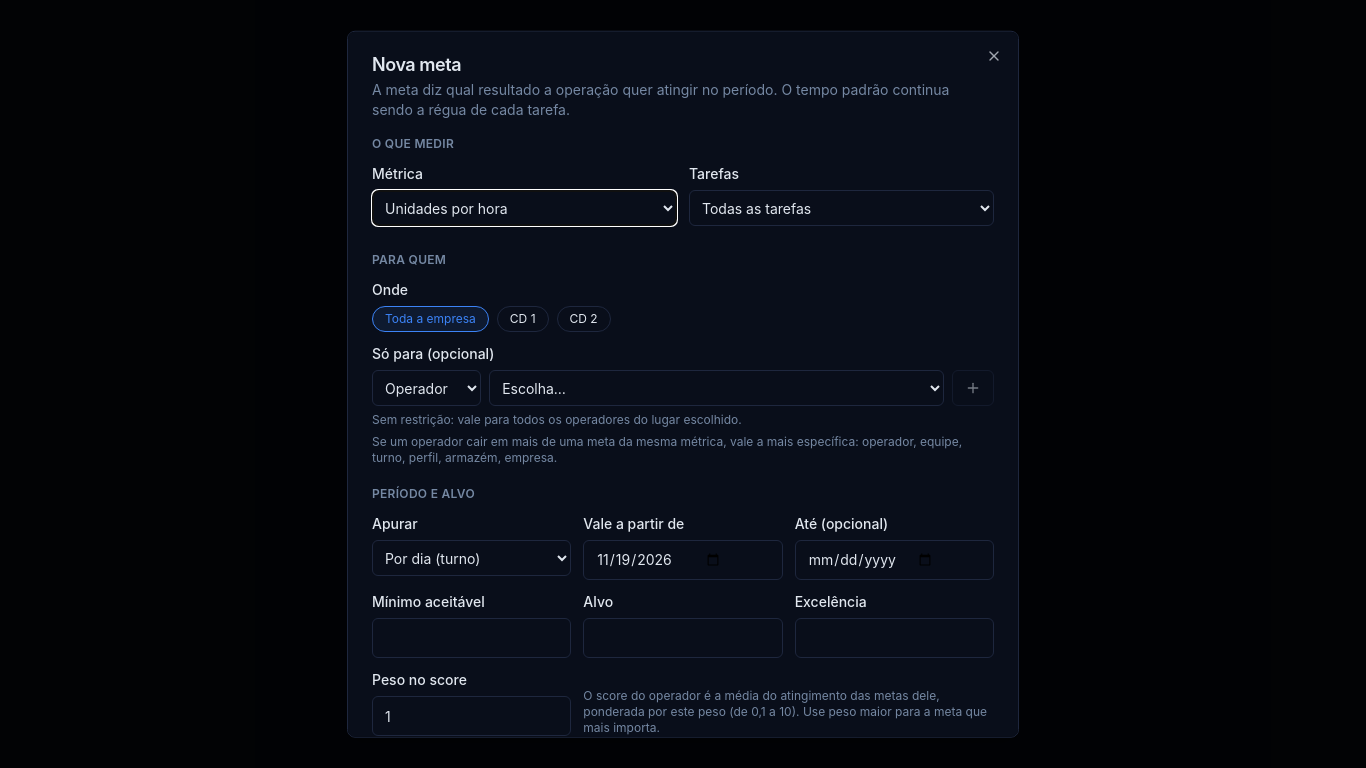
it: Fase 9 · diálogo de meta › lote: 2 tipos × 2 armazéns = 4 metas; supervisor envia para aprovação
The width and height of the screenshot is (1366, 768).
Earlier steps of the test are not shown.
Later steps or results of the test are not shown.
Select "Um tipo de tarefa (ou vários, uma meta para cada)" in the dropdown labelled "Tarefas" at (842, 208), box [689,190,994,226]
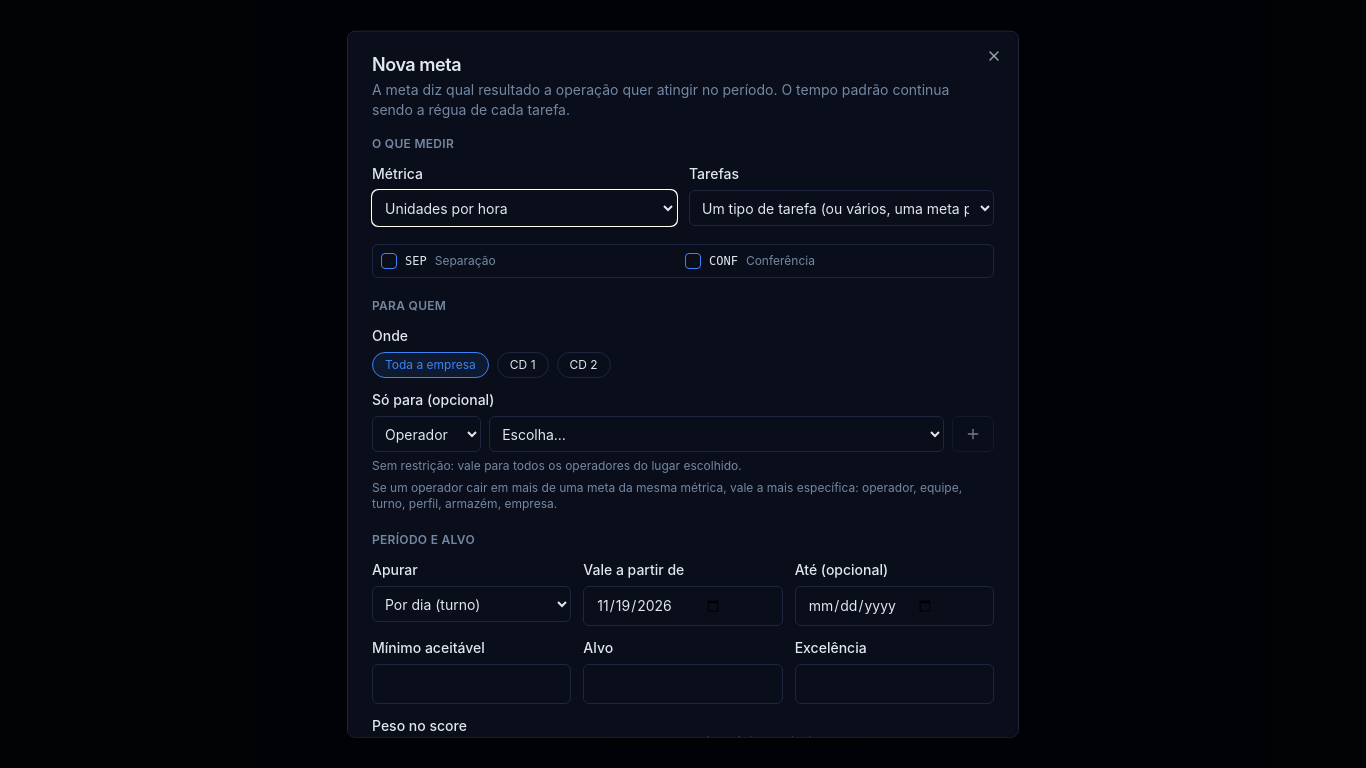
Click the text "SEP".
click(416, 261)  # box [405,253,427,269]
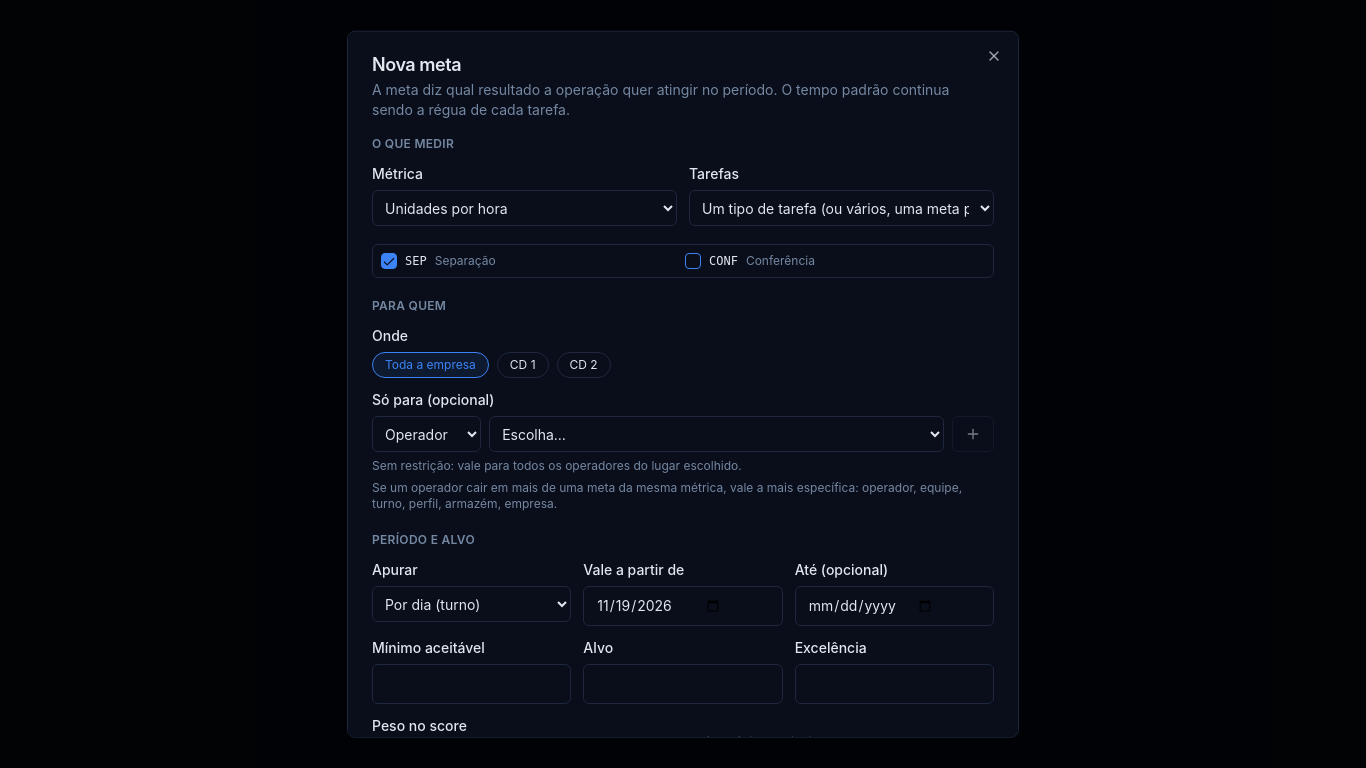
Click the text "CONF".
click(723, 261)  # box [709,253,738,269]
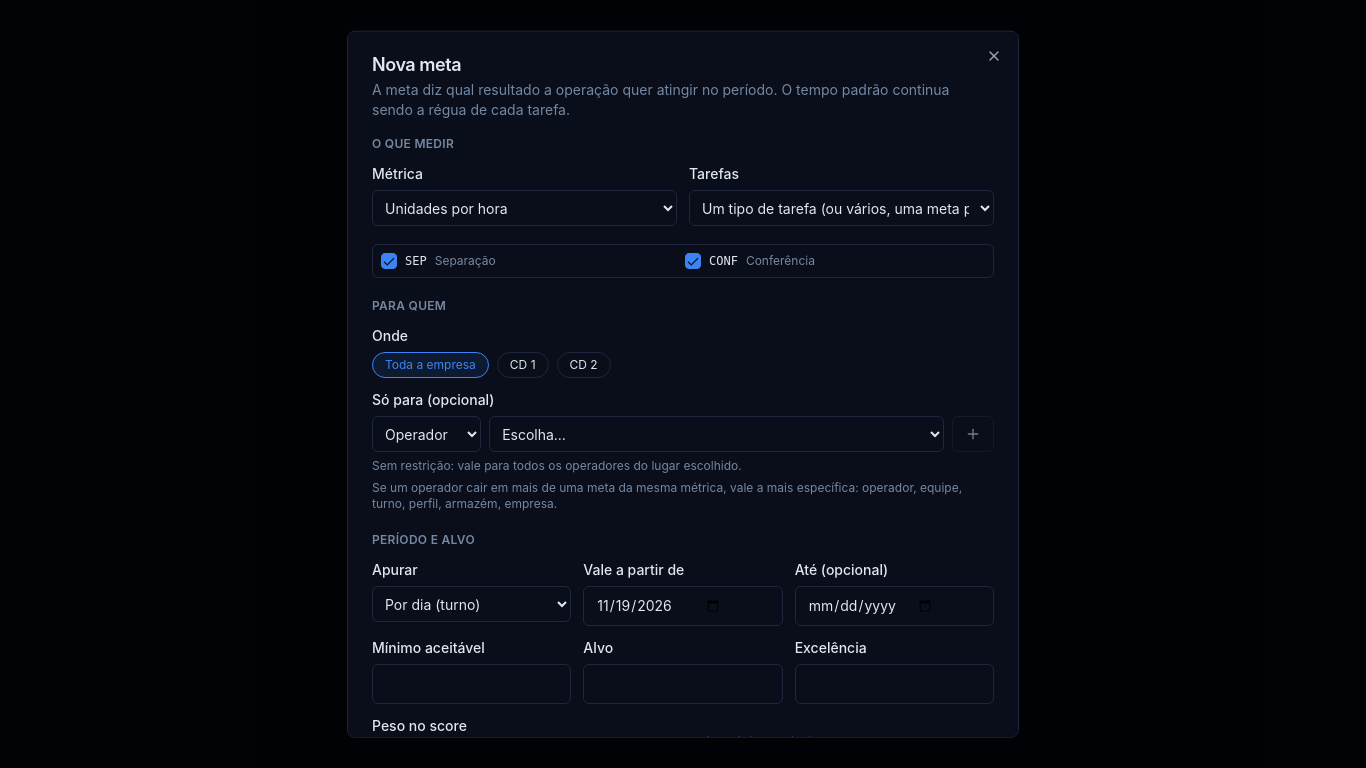
Click the button "CD 1".
click(523, 365)  # box [497,352,548,378]
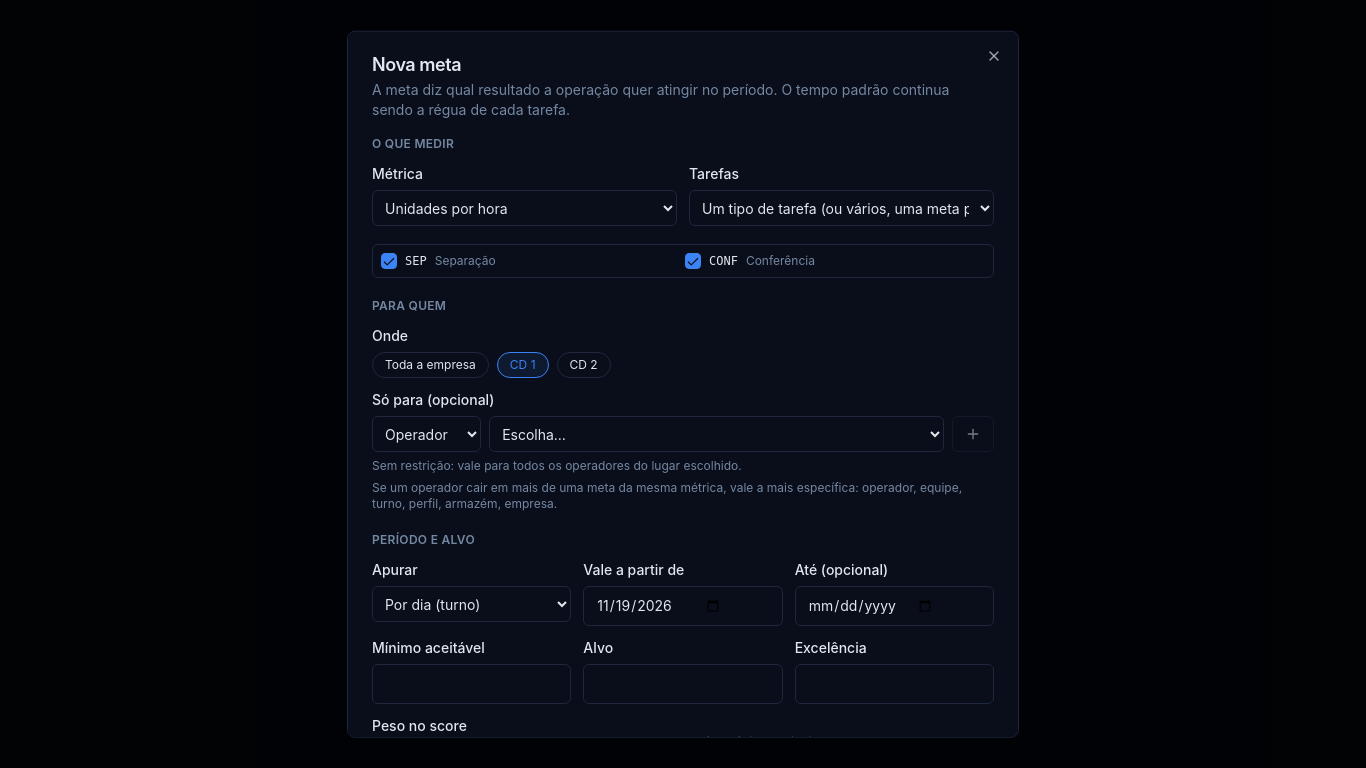
Click the button "CD 2".
click(584, 365)  # box [556,352,611,378]
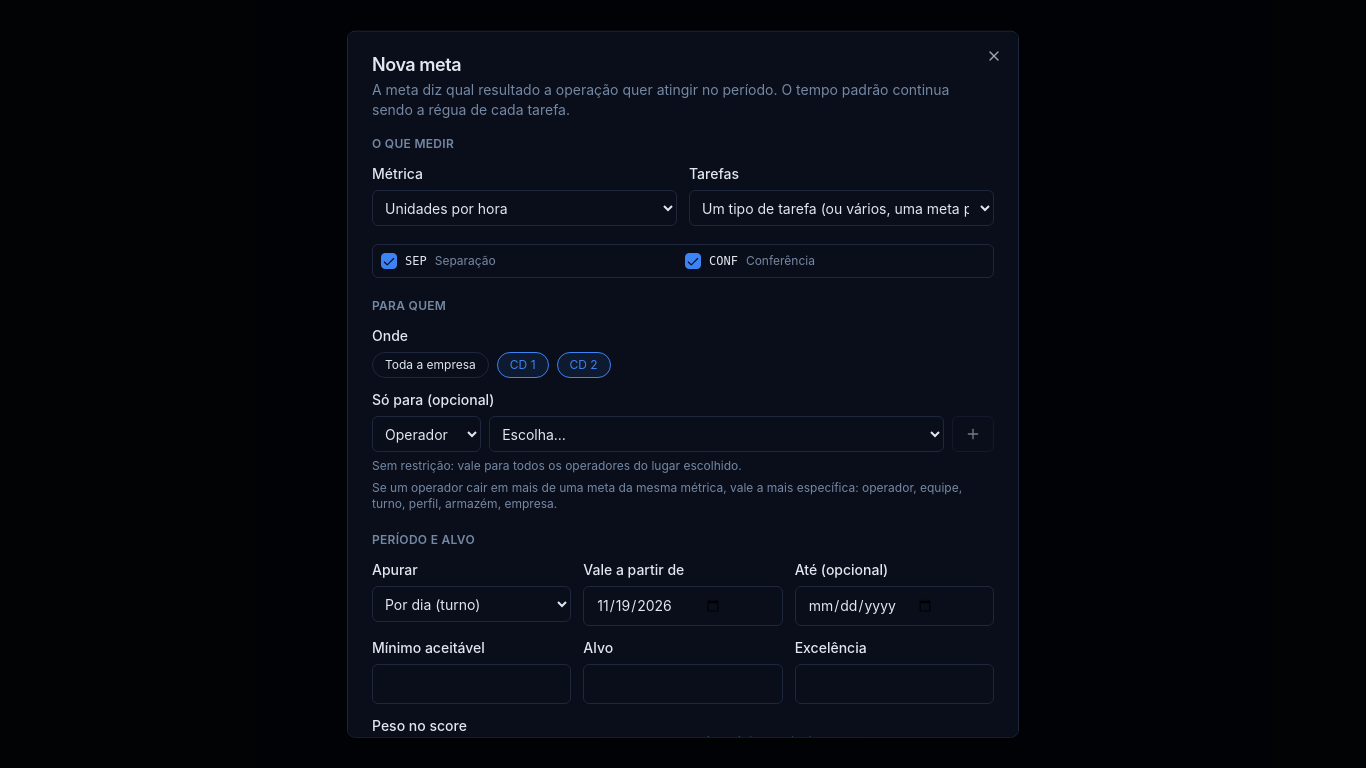
Type "120" into the field labelled "Alvo".
click(683, 684); type("120")  # box [583,664,783,704]
(page scrolled)
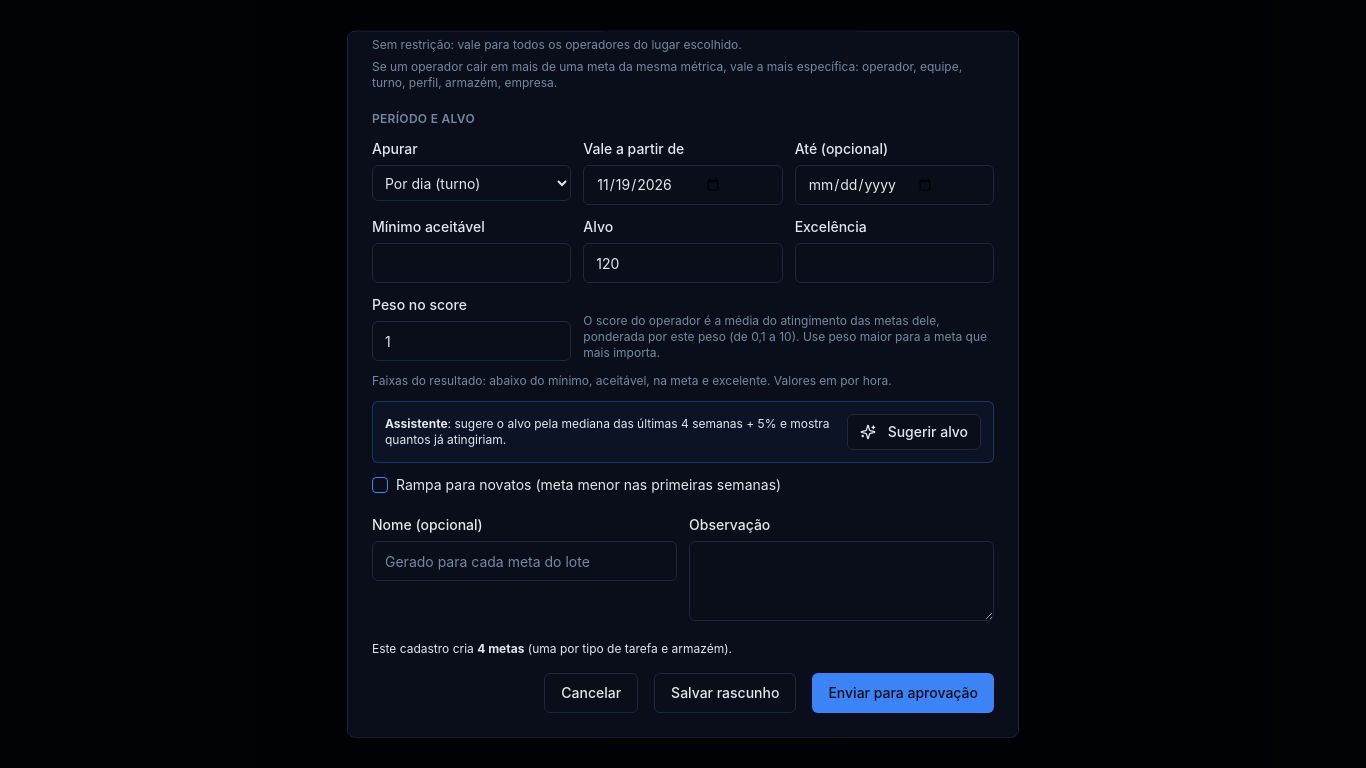
expect the text "4 metas" is shown: met, box [477,641,524,656]
